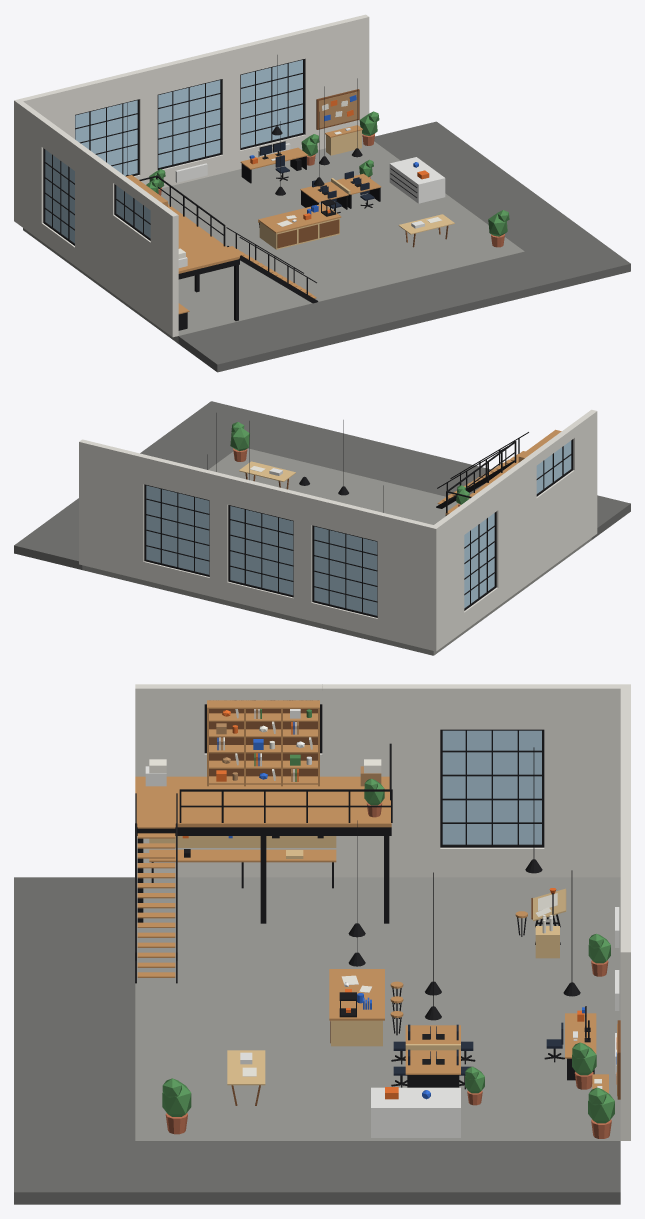
File: Workshop.fbx
3 renders of one model, top to bottom at view 1: azimuth 30°, elevation 25°; view 2: azimuth 150°, elevation 25°; view 3: azimuth 270°, elevation 25°, orthographic. The views are drawn at different scales.
Visible parts, largest first — view 1: Walls, Floor, FloorApron, Windows, Props, Mezzanine, PinBoard, Workbench, ComputerDesk; view 2: Walls, Windows, FloorApron, Floor, Mezzanine, Props; view 3: Floor, FloorApron, Walls, Mezzanine, Props, Windows, PrototypeShelf, Workbench, ComputerDesk, DraftingTable, PinBoard.
Boxes of the visible parts, x1,y1,x2,y2 form: Walls: (14, 14, 369, 337); Floor: (23, 139, 524, 343); FloorApron: (178, 121, 630, 372); Windows: (43, 59, 304, 245); Props: (126, 55, 509, 330); Mezzanine: (139, 175, 318, 320); PinBoard: (316, 89, 379, 155); Workbench: (258, 199, 341, 249); ComputerDesk: (240, 134, 319, 183); Walls: (79, 409, 597, 651); Windows: (144, 439, 573, 617); FloorApron: (14, 401, 630, 569); Floor: (82, 448, 591, 655); Mezzanine: (436, 432, 528, 515); Props: (207, 413, 383, 512); Floor: (135, 877, 620, 1141); FloorApron: (14, 877, 620, 1204); Walls: (135, 684, 630, 1140); Mezzanine: (135, 743, 392, 983); Props: (149, 747, 610, 1137); Windows: (204, 704, 544, 847); PrototypeShelf: (207, 700, 319, 786); Workbench: (329, 969, 403, 1046); ComputerDesk: (544, 1006, 596, 1089); DraftingTable: (515, 888, 566, 958); PinBoard: (588, 1020, 620, 1138).
Bounding box in the file's own units: 21.8 × 6.4 × 17.8.
